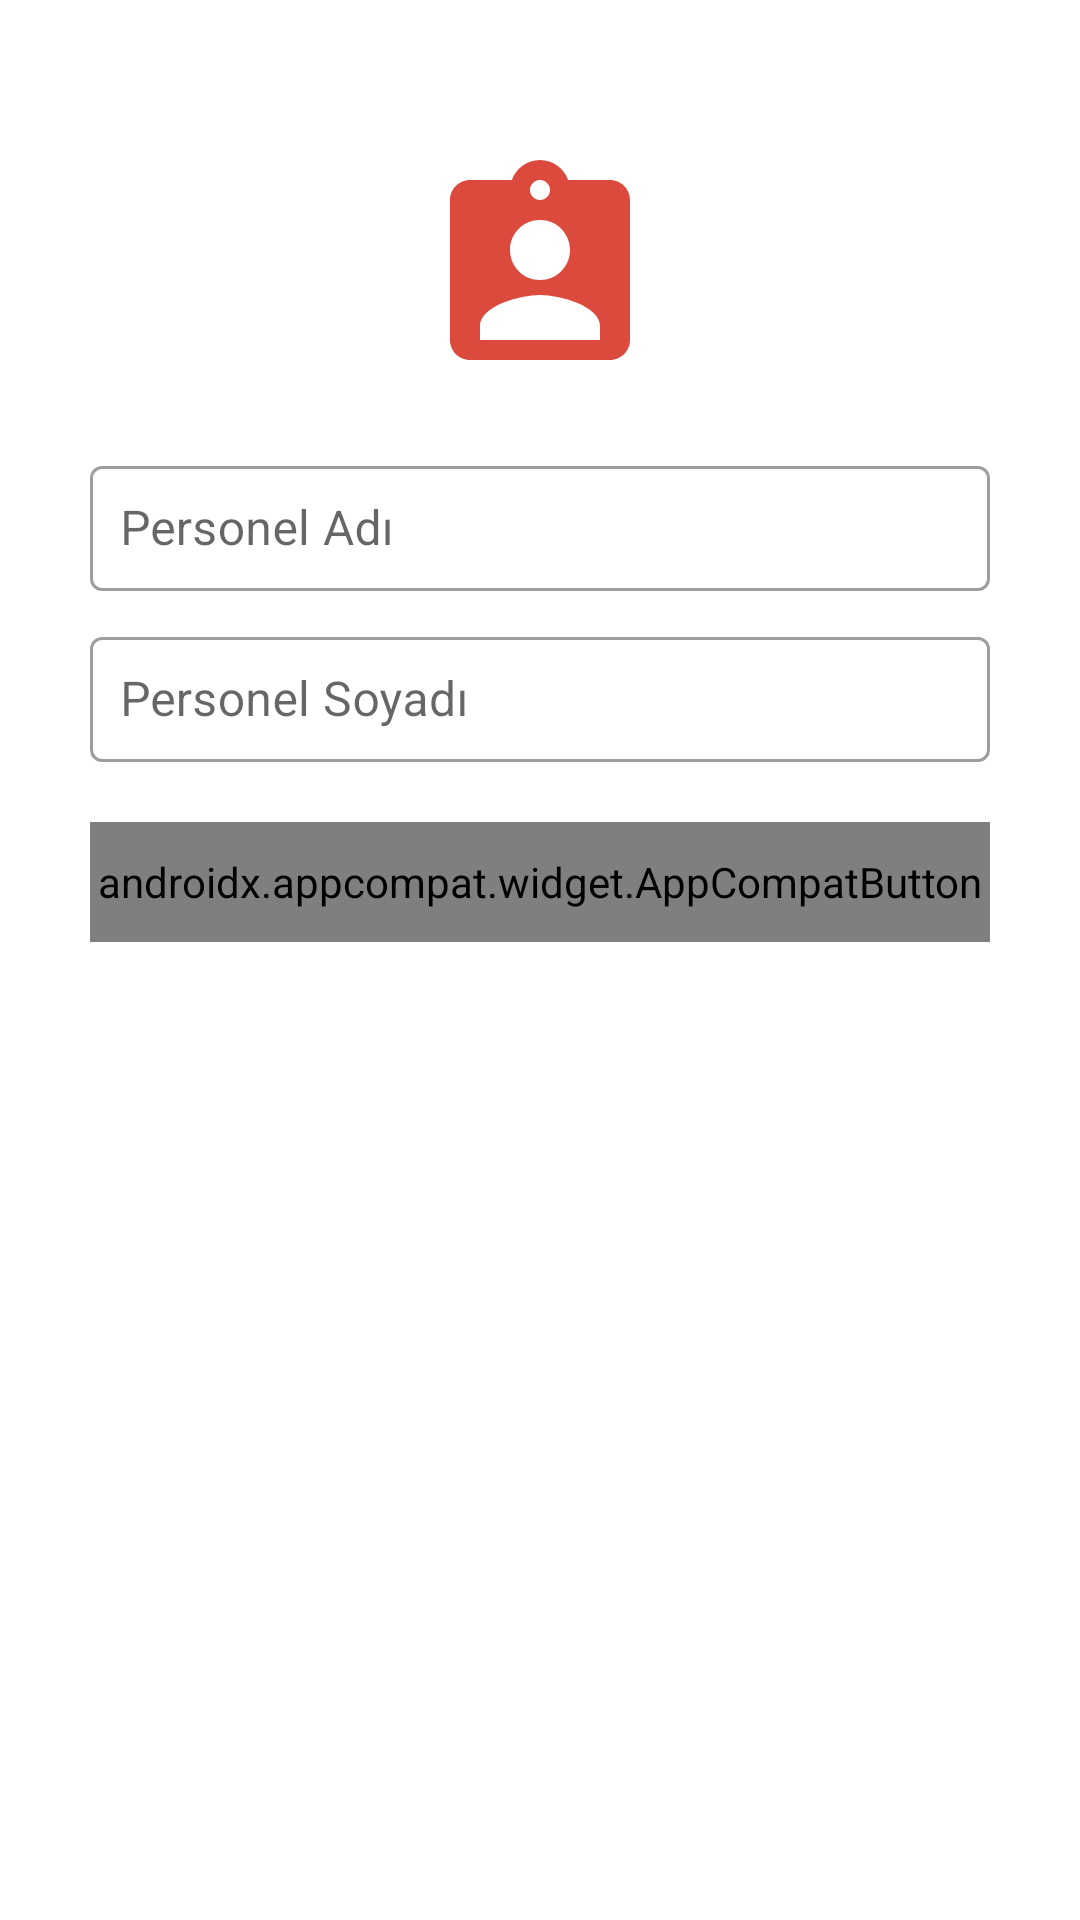

Screen size 1080×1920. Icon name, then its center in pixels as (x=x, y=y):
employee top: (x=540, y=260)
